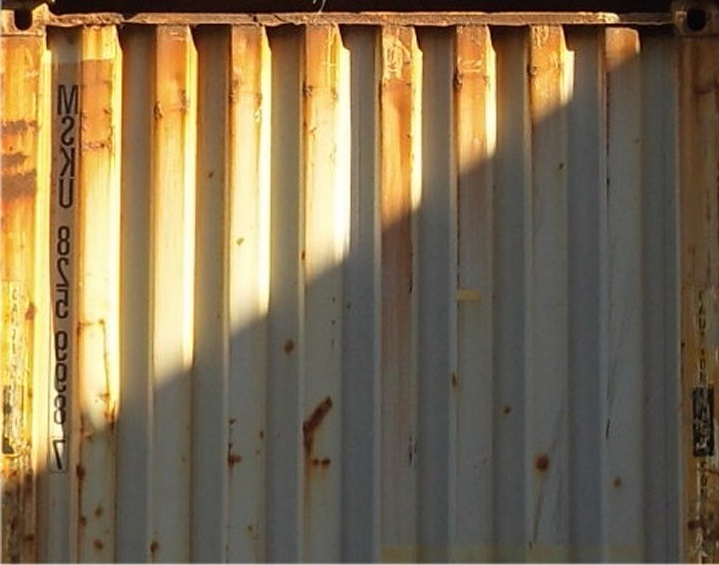container_no_door: (8, 4, 711, 556)
